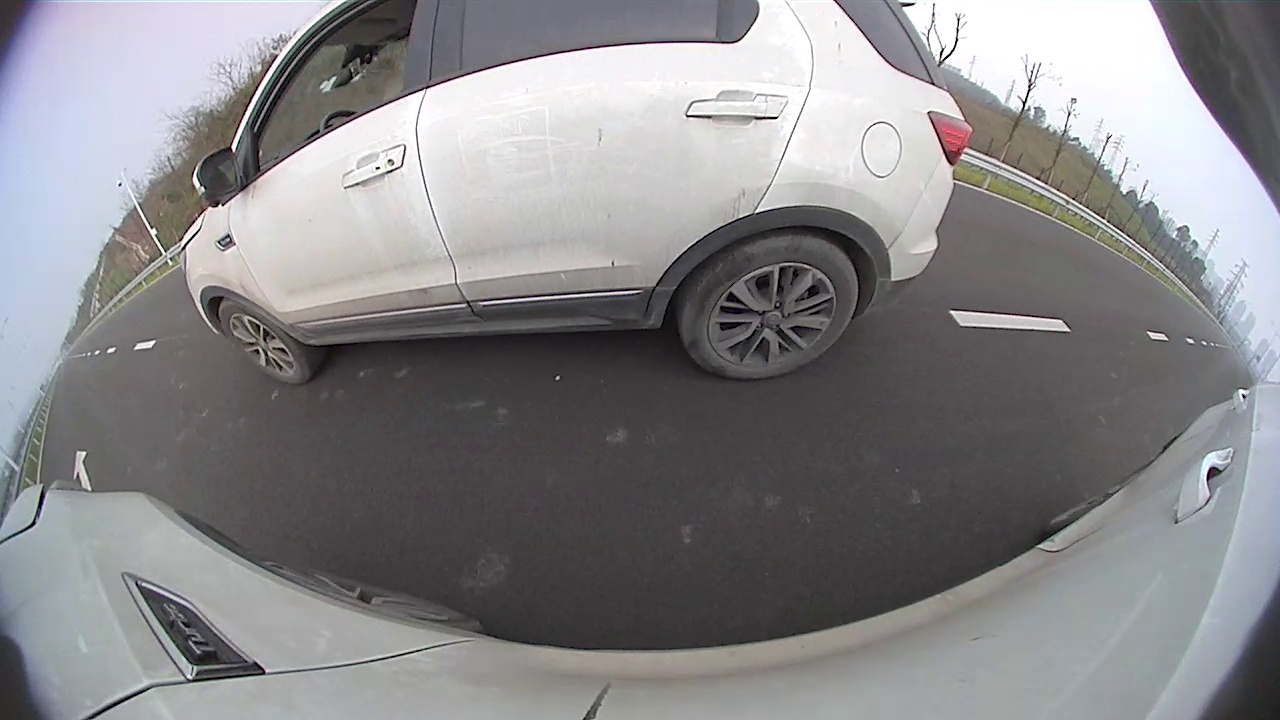car: (179, 1, 973, 386)
front: (219, 302, 309, 385)
rear: (682, 237, 859, 379)
